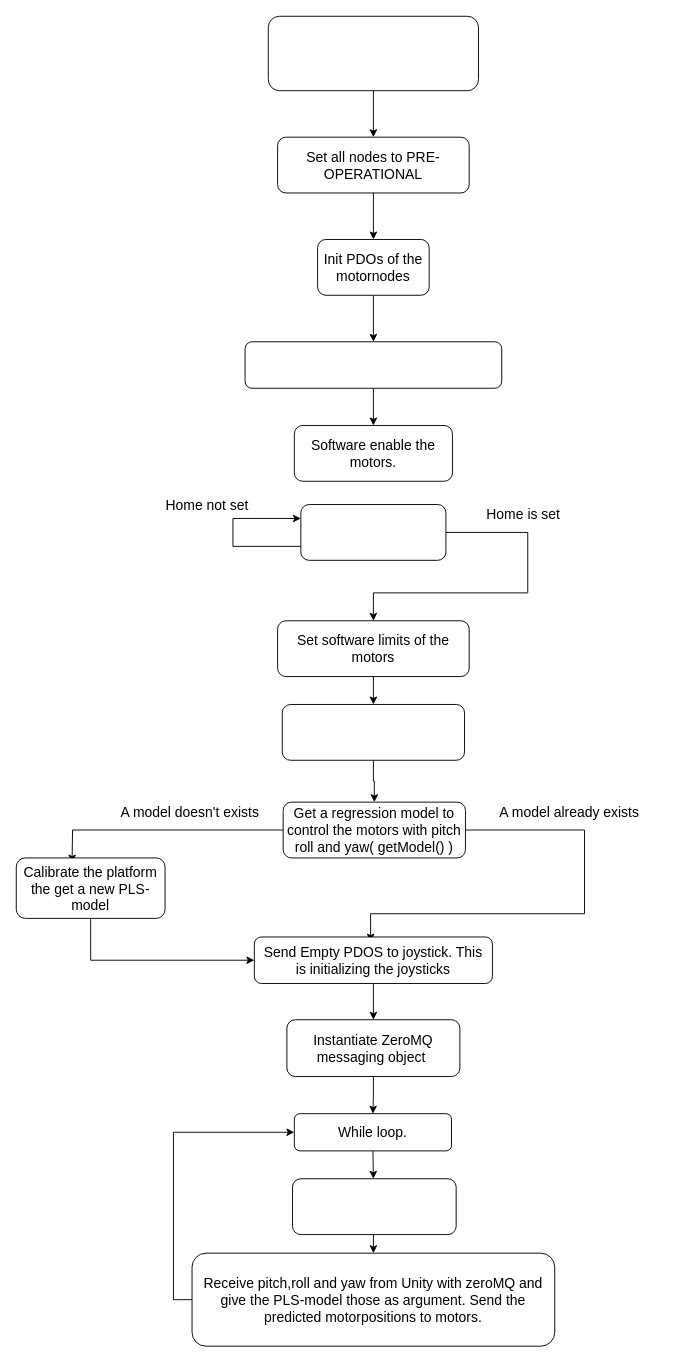
Image size: 676x1362. Some labels were removed from this diagram. Here are the shapes that lost their labels. From the top down, the centre of each, then its label:
At point 372,53: "Instantiate CANopen network and the nodes".
At point 373,364: "Initialize motors according to scaling with the gear.".
At point 373,532: "Loop until home reference is set".
At point 373,732: "Set network state to OPERATIONAL".
At point 374,1206: "Send joystick values through ZeroMQ".
